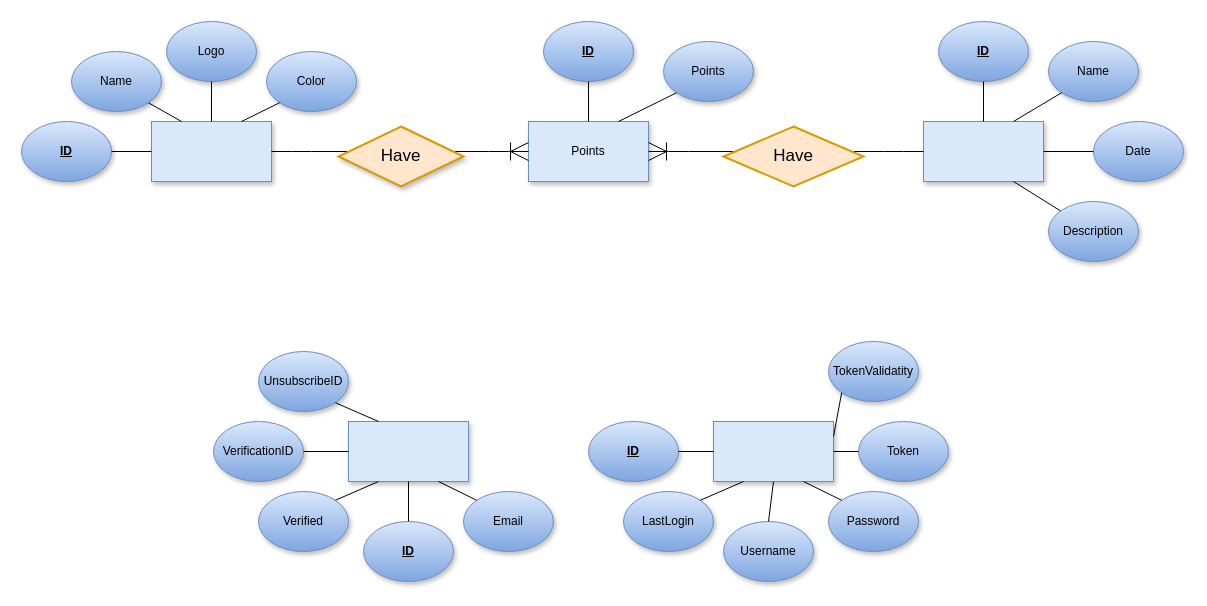
Image size: 1207x606. Some labels were removed from this diagram. The shapes that lost their labels are listed below. From the top down, each one's centre as x and y in pixels, then its label:
point (212, 152): Teams
point (984, 152): Events
point (409, 452): Emails
point (774, 452): Users
